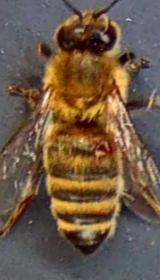varroa_mite: (85, 133, 119, 162)
